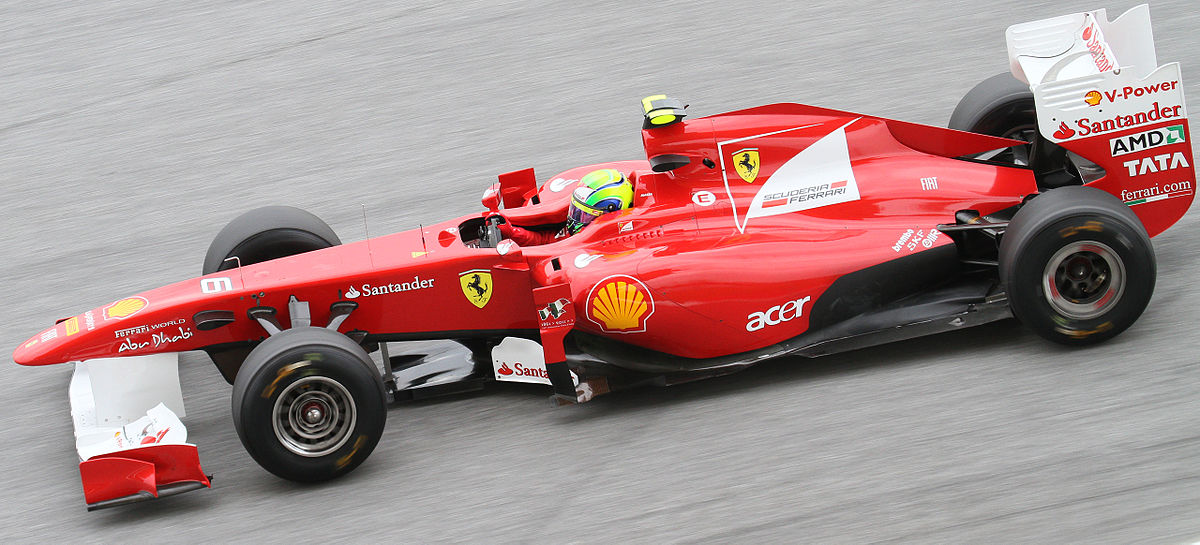f1_car: (6, 1, 1199, 526)
